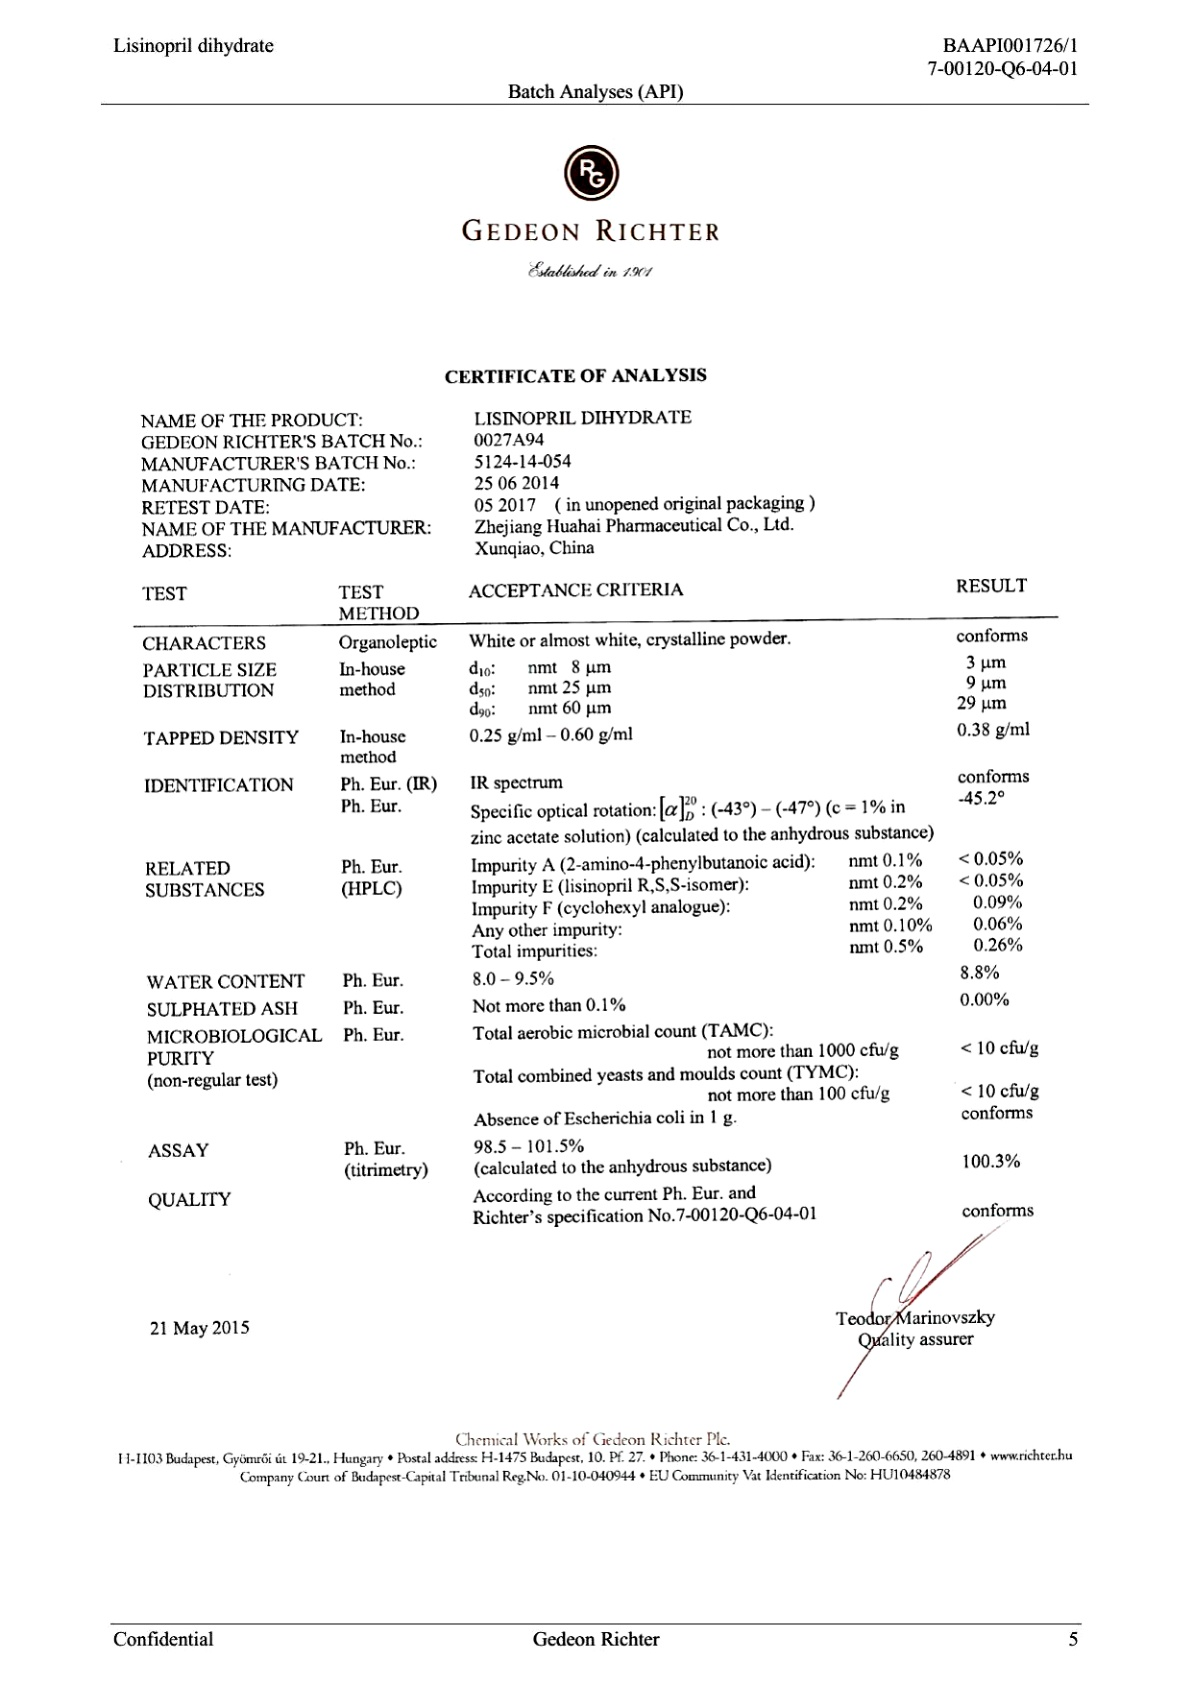nolines: (137, 408, 819, 560)
partial_lined: (136, 575, 1060, 1255)
